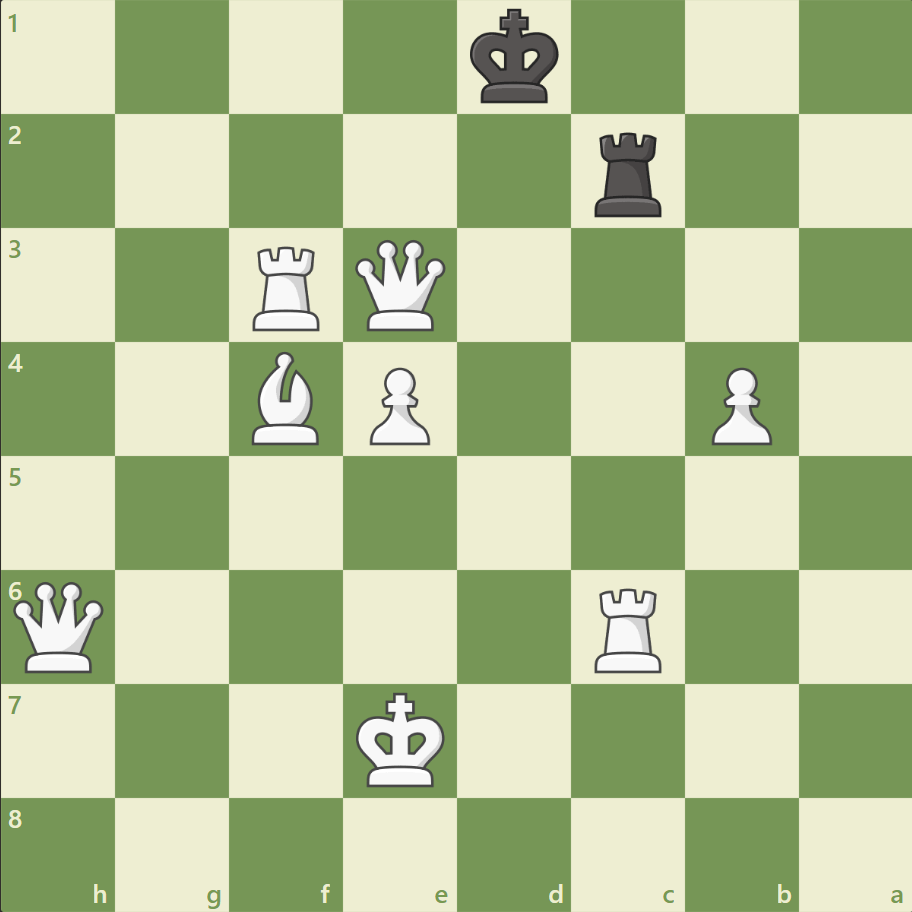B: (244, 347, 328, 449)
K: (351, 685, 451, 793)
P: (701, 359, 776, 450), (361, 359, 435, 450)
Q: (10, 576, 109, 676), (351, 236, 450, 335)
R: (587, 579, 670, 676), (246, 239, 329, 336)
k: (465, 4, 565, 112)
r: (587, 125, 670, 222)
